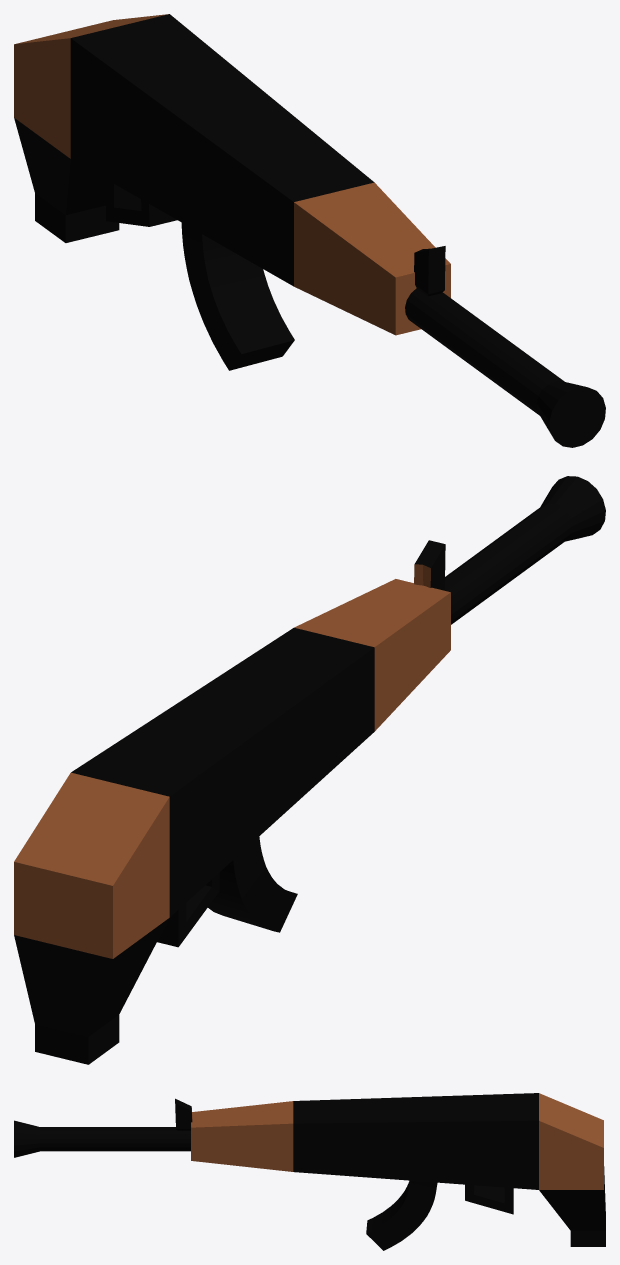
Rendered from rifle1.obj.
The picture shows the model from 3 angles, top to bottom: view 1: azimuth 30°, elevation 25°; view 2: azimuth 150°, elevation 25°; view 3: azimuth 270°, elevation 25°; orthographic projection. The views are drawn at different scales.
Visible parts, largest first — view 1: Cube.001_Cube.003; view 2: Cube.001_Cube.003; view 3: Cube.001_Cube.003.
Part boxes in pixels (<box>): Cube.001_Cube.003: <box>14,14,605,447</box>; Cube.001_Cube.003: <box>14,476,605,1064</box>; Cube.001_Cube.003: <box>14,1093,605,1250</box>.
Size of the model in its own units: 0.0858 by 0.2075 by 0.7746.
Materials: 2 (2 with a texture image).
